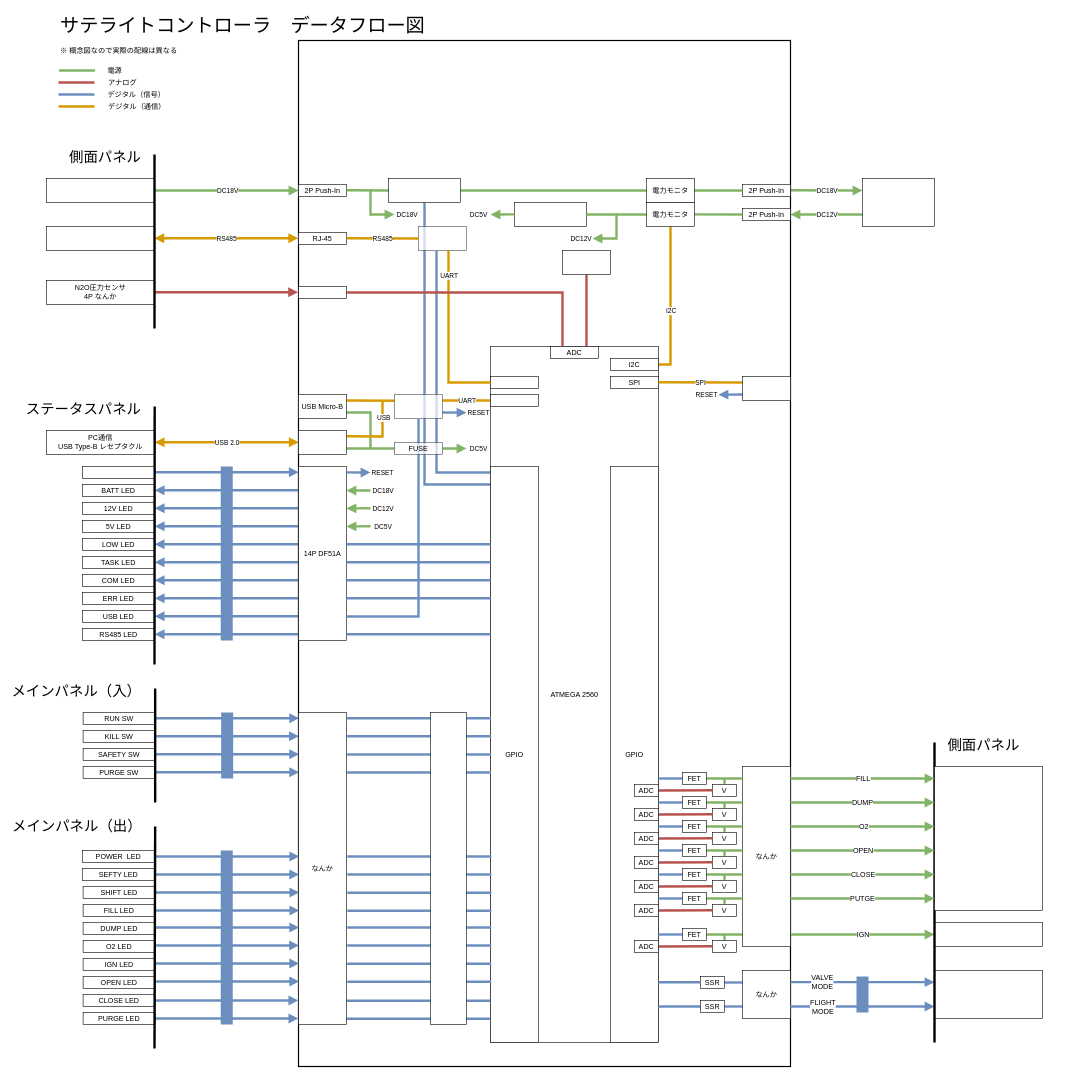
Some shapes in this 1088 by 1077 pixel diagram are drawn without their labels. The centre of each missing label's shape, as x and y in pixels:
"4P Push-In" belongs at point 322,292.
"6P DF51A" belongs at point 322,442.
"DC/DCコンバータ 12V/5V" belongs at point 550,214.
"DC/DCコンバータ 18V/12V" belongs at point 898,202.
"DEBUG INTER- FACE" belongs at point 448,868.
"FT232RL" belongs at point 418,406.
"ICSP" belongs at point 766,388.
"RESET SW" belongs at point 118,472.
"RS485 トランシーバ" belongs at point 442,238.
"UART0" belongs at point 514,400.
"UART1" belongs at point 514,382.
"こもあ 2P なんか" belongs at point 988,934.
"アンビリカルケーブル 4P なんか" belongs at point 988,994.
"ランサテ通信 RJ-45 モジュラージャック" belongs at point 100,238.
"ロードスイッチ" belongs at point 424,190.
"温度モニタ" belongs at point 586,262.
"電源入力 2.1mm DCジャック" belongs at point 100,190.
"電磁弁ユニット なんか" belongs at point 988,838.
